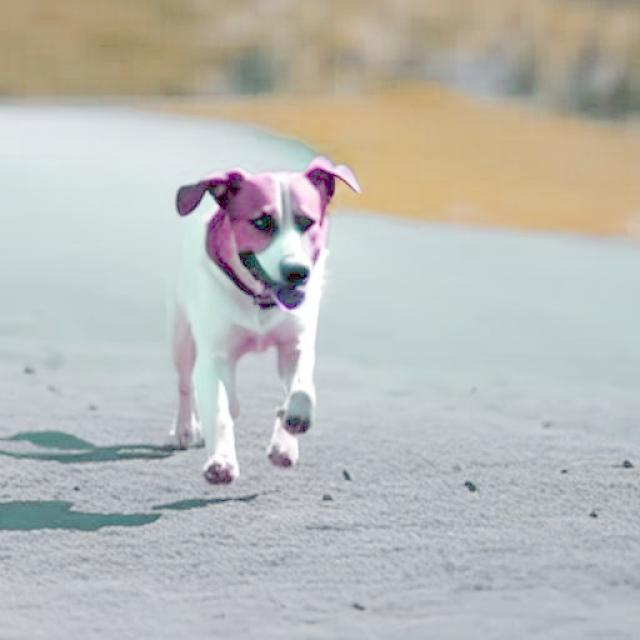Dog: (171, 155, 363, 486)
